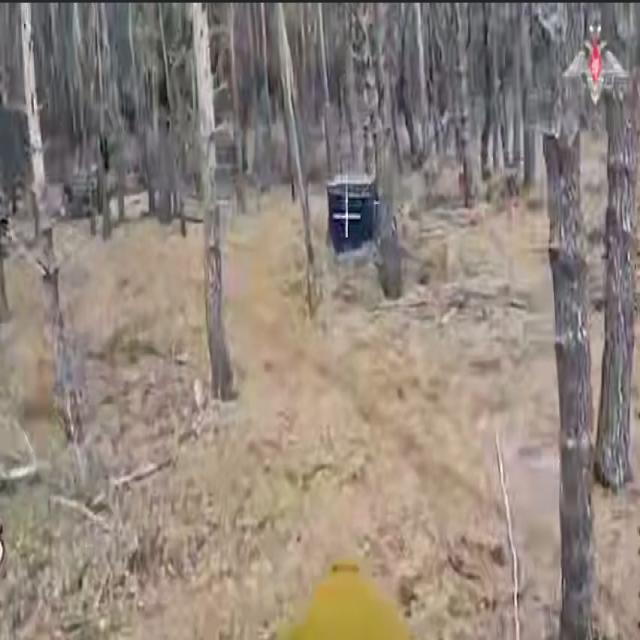fortification: (324, 158, 409, 266)
